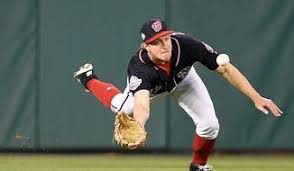baseball: (213, 51, 234, 69)
baseball player: (72, 15, 286, 171)
